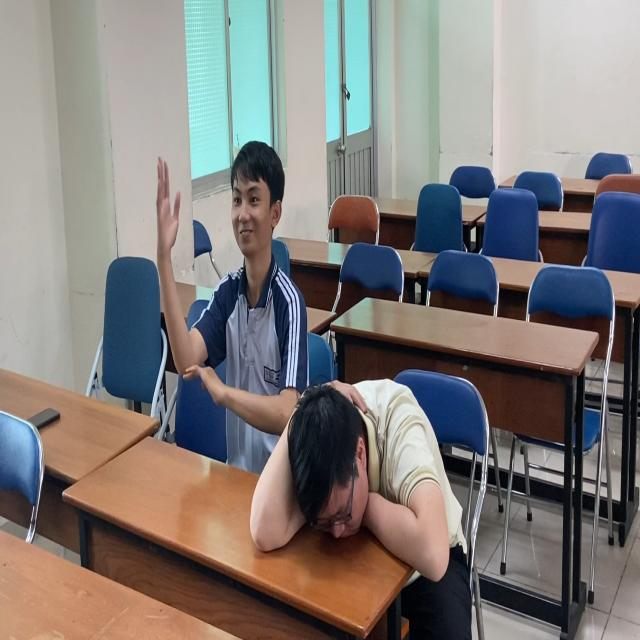raise_hand: (139, 127, 311, 487)
sleep: (251, 374, 472, 573)
